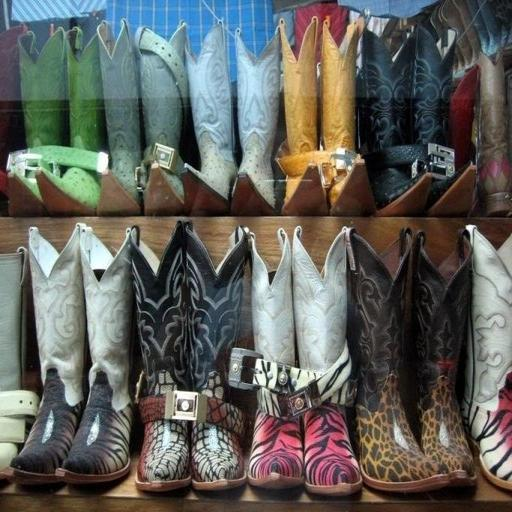boots: (132, 221, 248, 491), (348, 229, 449, 492), (8, 225, 86, 484), (57, 225, 133, 484), (292, 227, 363, 495), (185, 224, 249, 490), (412, 232, 476, 486), (132, 221, 191, 492), (248, 229, 304, 488), (33, 26, 106, 216), (359, 30, 431, 216), (462, 225, 512, 490), (8, 27, 68, 216), (320, 17, 375, 216), (182, 23, 237, 215), (135, 23, 189, 216), (278, 17, 328, 215), (0, 247, 40, 480), (231, 30, 280, 215), (96, 20, 142, 216), (477, 52, 512, 217), (66, 26, 106, 151), (0, 25, 25, 195)
